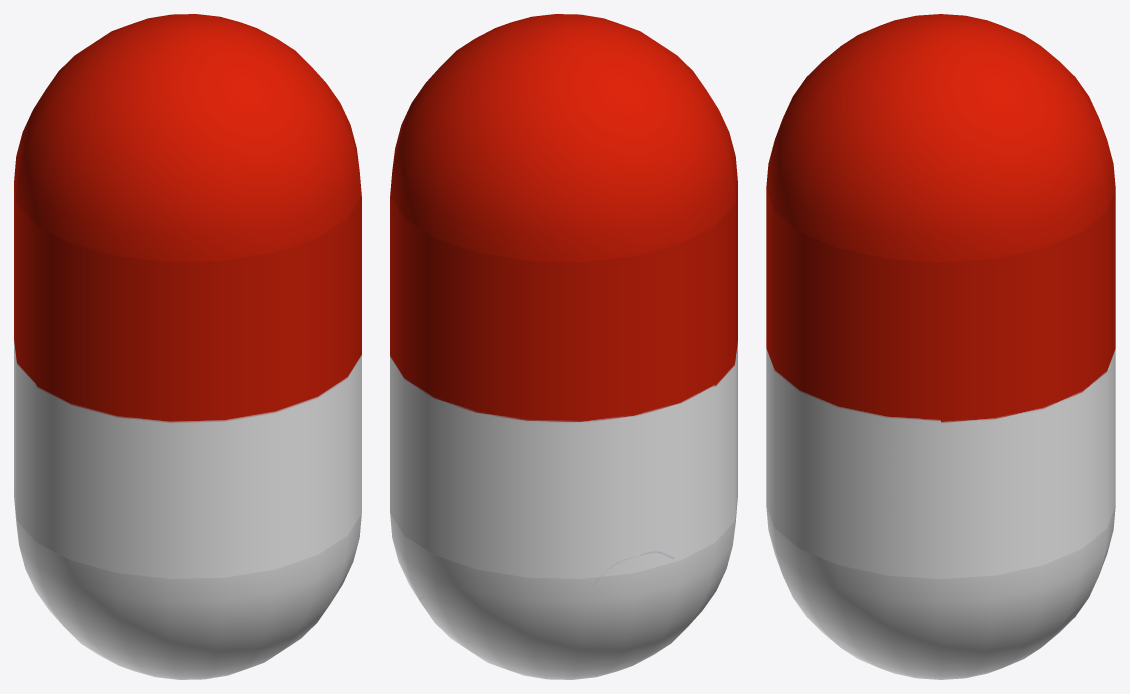
Rendered from yaowan.fbx.
The picture shows the model from 3 angles, left to right: view 1: azimuth 30°, elevation 25°; view 2: azimuth 150°, elevation 25°; view 3: azimuth 270°, elevation 25°; orthographic projection.
Visible parts, largest first — view 1: pSphere3; view 2: pSphere3; view 3: pSphere3.
Part boxes in pixels (left/top/right/bottom): pSphere3: left=14, top=14, right=361, bottom=679; pSphere3: left=390, top=14, right=737, bottom=679; pSphere3: left=766, top=14, right=1115, bottom=679.
Size of the model in its own units: 2 by 4 by 2.
